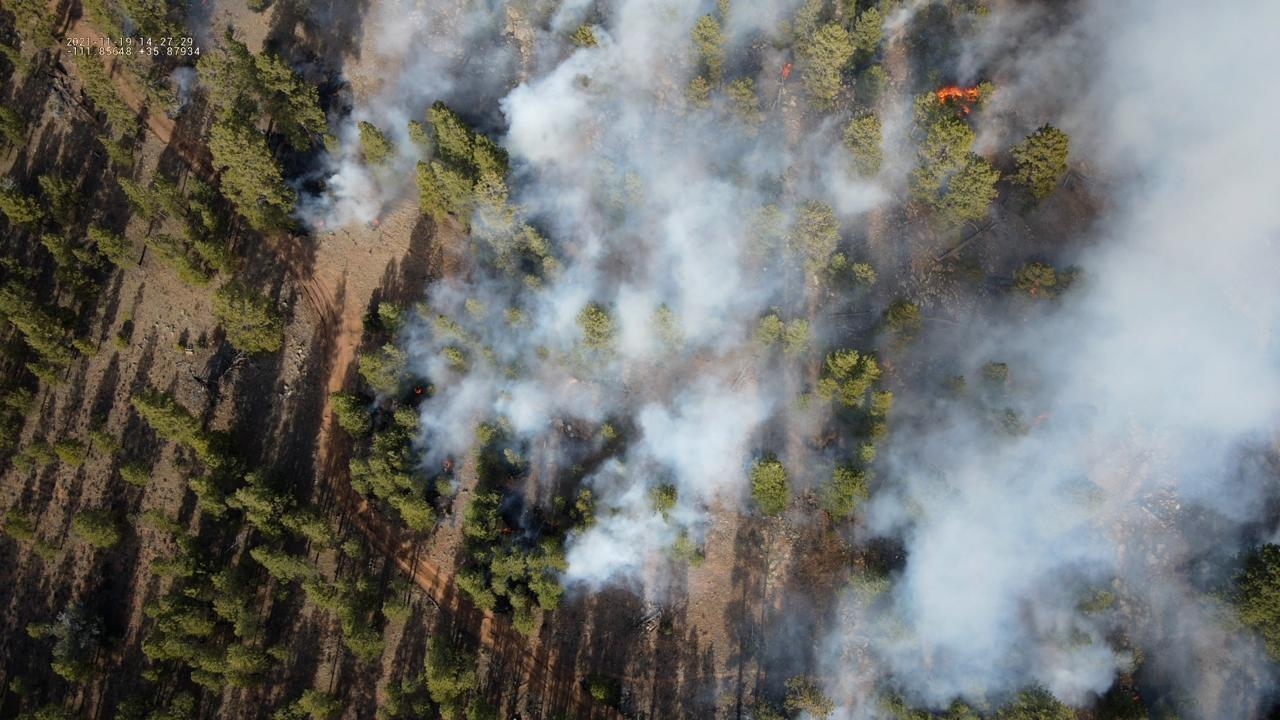fire: (934, 84, 982, 118), (780, 61, 794, 79), (442, 459, 453, 470), (371, 218, 381, 226), (314, 219, 325, 226), (414, 388, 423, 395), (962, 69, 969, 74), (992, 91, 998, 96)
smoke: (279, 0, 1280, 720), (163, 0, 217, 58), (168, 65, 200, 111), (121, 15, 139, 37)
